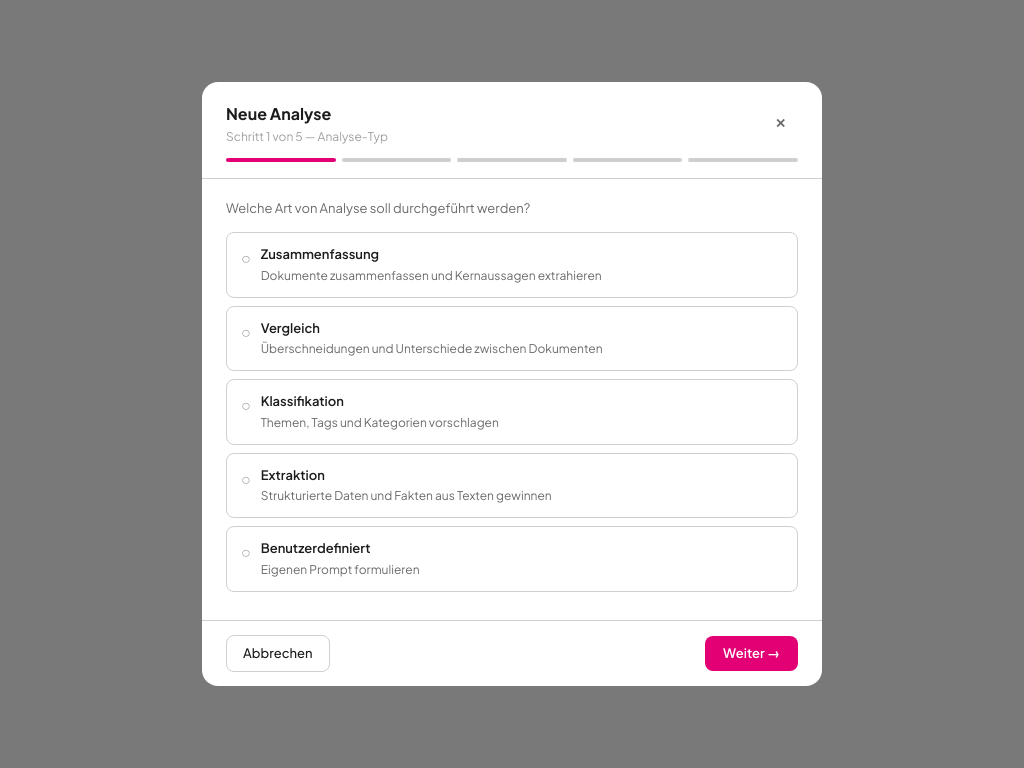
Test case: Step 1 — Analyse-Typ › advances after selecting type
Click the radio button with test id "type-summarize" at [512, 265], box 226,232 -> 798,298
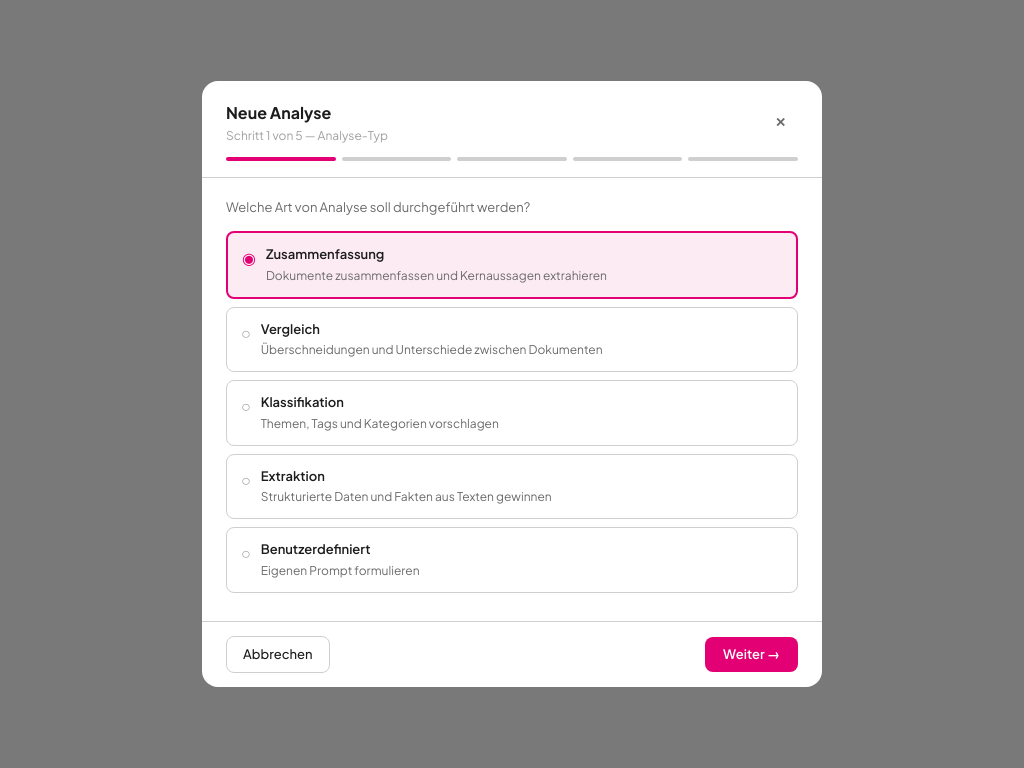
Click the button with test id "btn-next" at [752, 655], box 705,637 -> 798,672
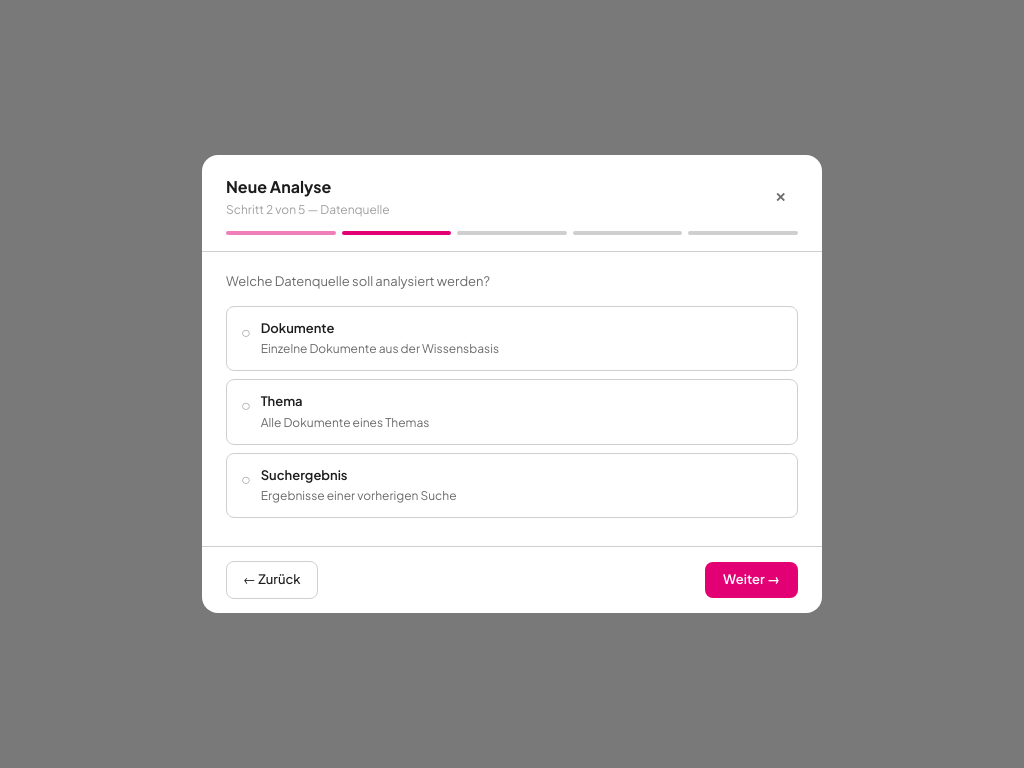
Now the radio button with test id "source-documents" is shown, box 226,306 -> 798,371
